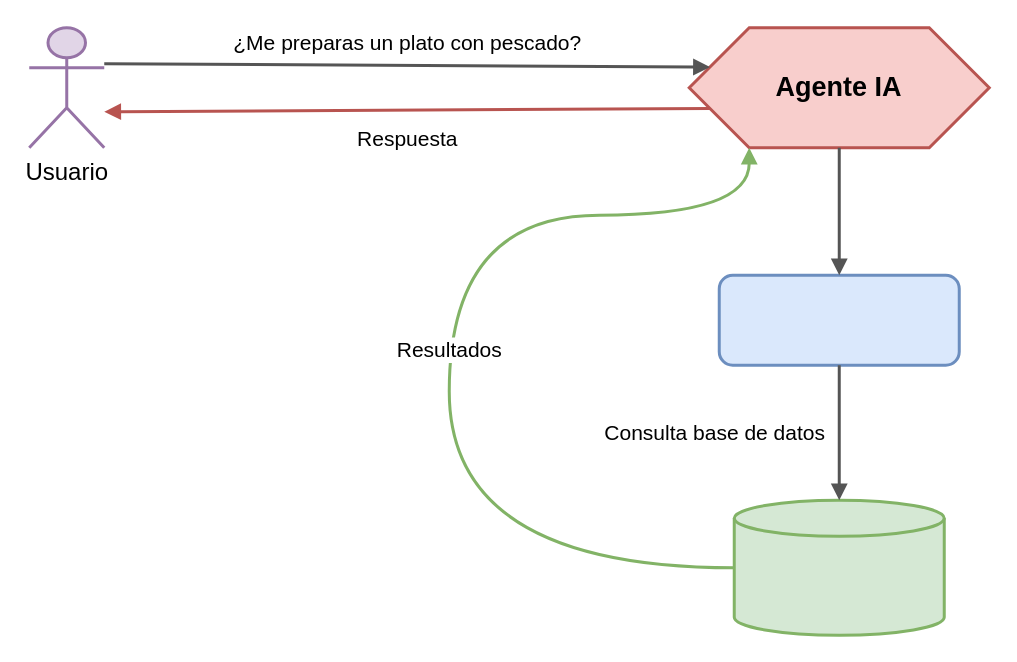
This 1017x662 diagram has some shape labels left out. The centre of each missing label's shape, as x and y in pixels:
"Base de datos" goes at point 838,567.
"Procesa petición" goes at point 838,319.
